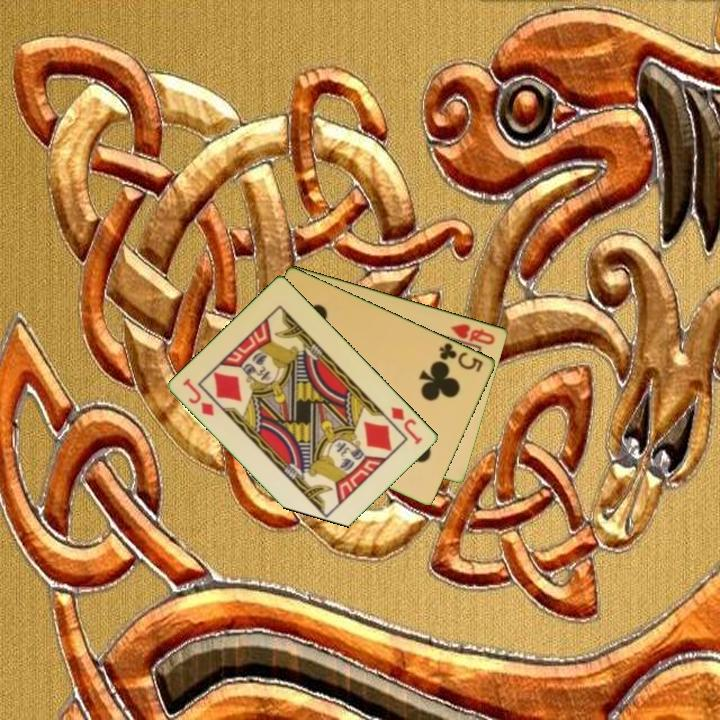5c: (436, 339, 486, 375)
Jd: (387, 403, 426, 447), (180, 375, 218, 419)
Qh: (447, 320, 498, 348)
